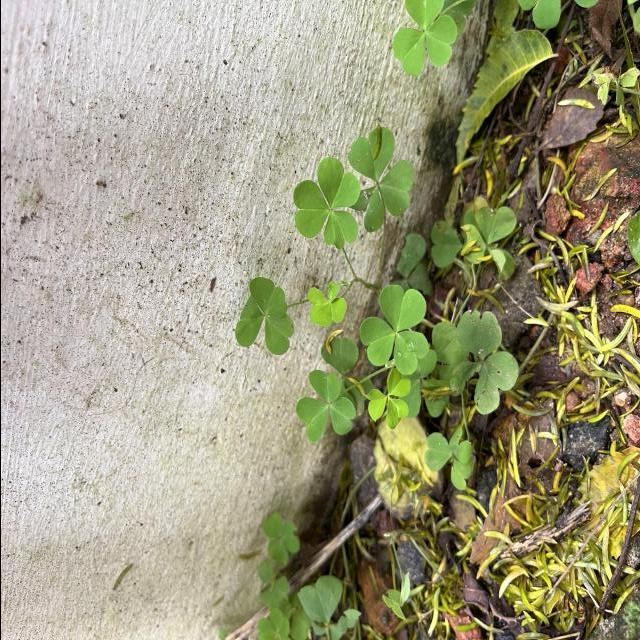Oxalis corniculata: (446, 307, 518, 416), (346, 126, 416, 234), (357, 283, 430, 377), (292, 156, 361, 250), (390, 0, 458, 78), (232, 275, 294, 357), (294, 368, 356, 444), (366, 367, 412, 430), (306, 280, 348, 328)
